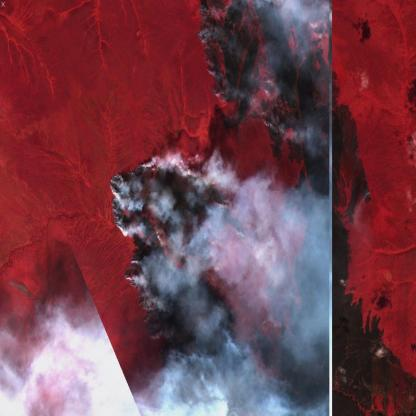fire: (106, 148, 288, 344), (192, 0, 332, 112)
